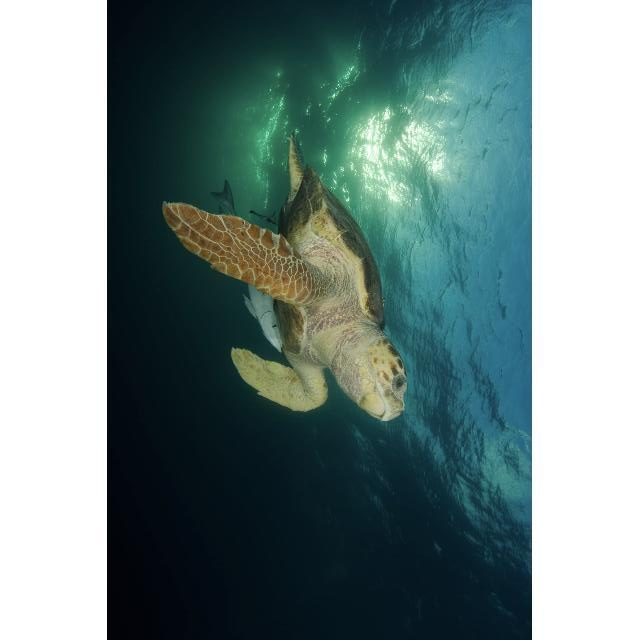turtle: (160, 131, 407, 423)
